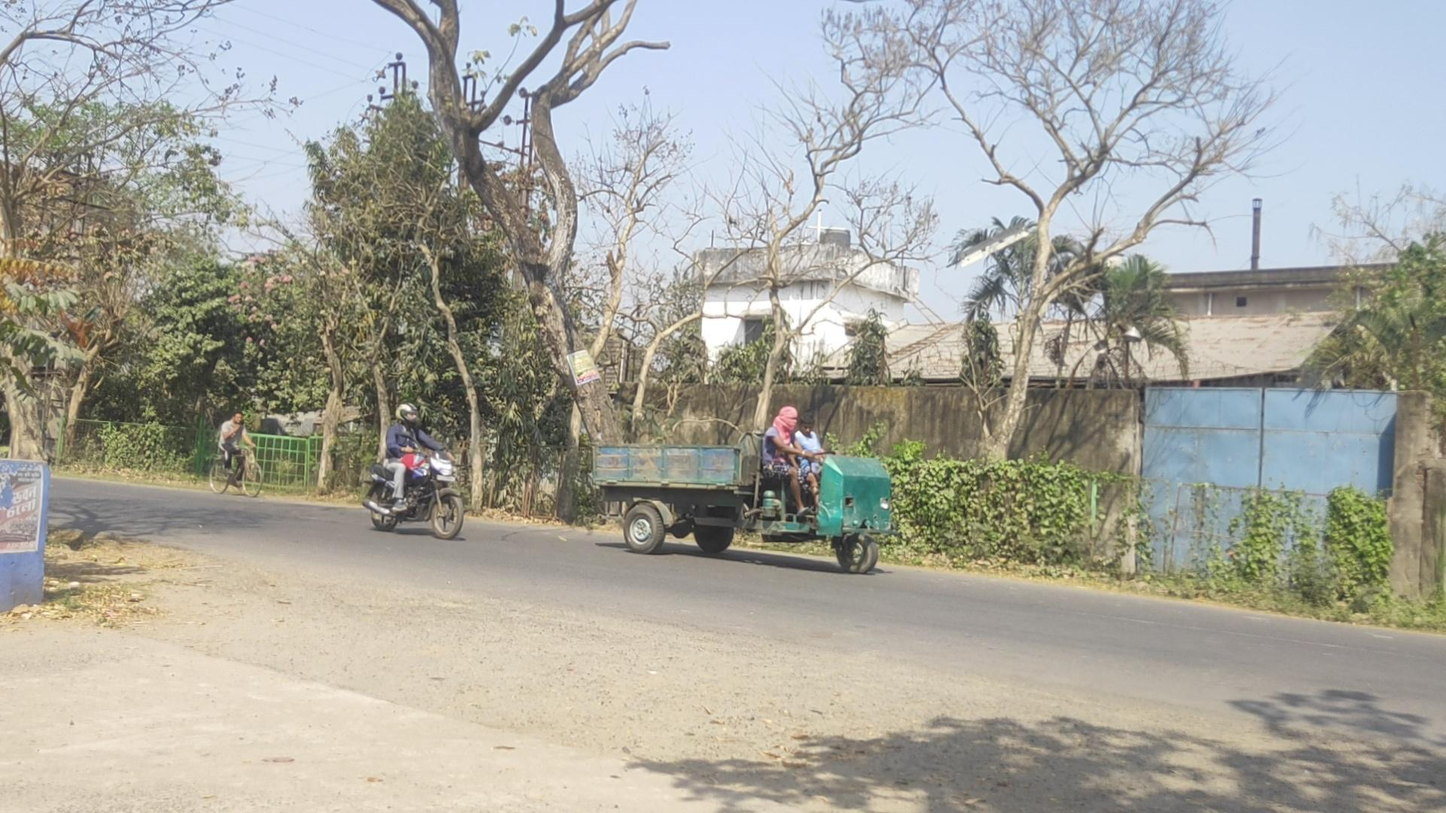bike: (362, 402, 464, 540), (209, 411, 263, 498)
